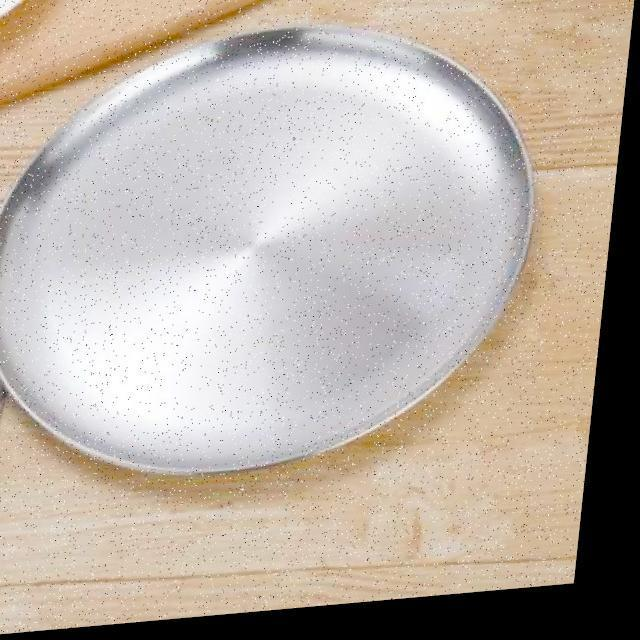plate: (0, 0, 576, 508)
